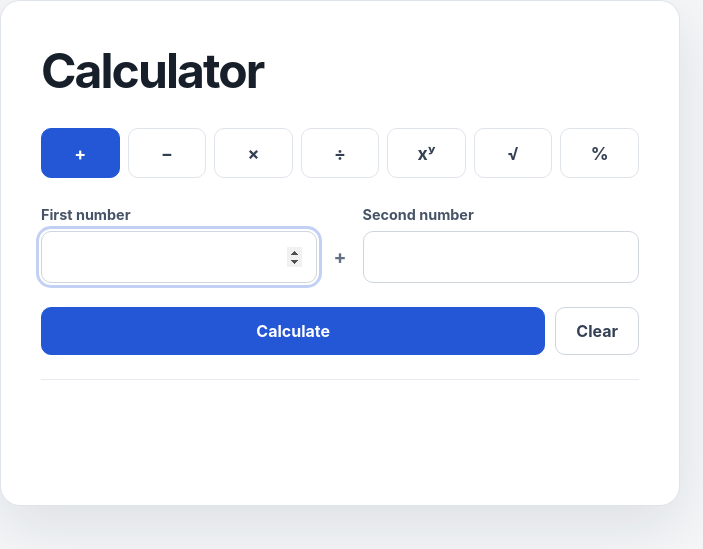
Test case: Calculator › calculates a binary operation
This screenshot has width=703, height=549.
Step 1. Click the button named "Multiply" → (253, 153), box top-left (214, 128), bottom-right (293, 178)
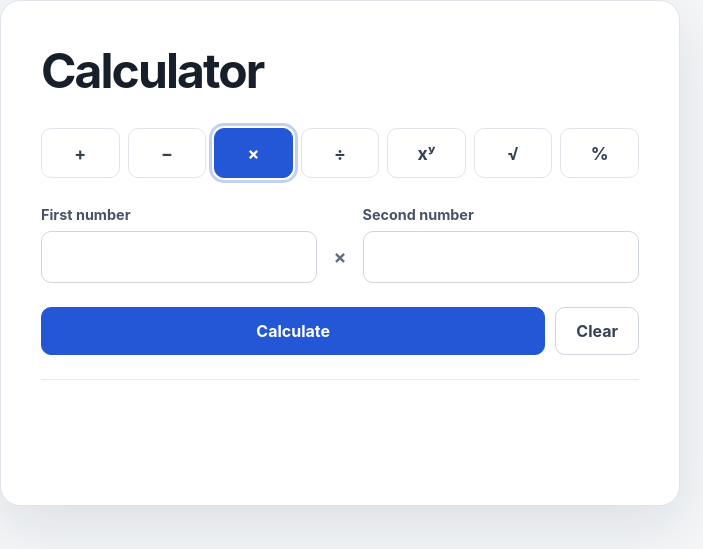
Step 2. Type "7" into the number field labelled "First number" → (179, 257), box top-left (41, 231), bottom-right (318, 283)
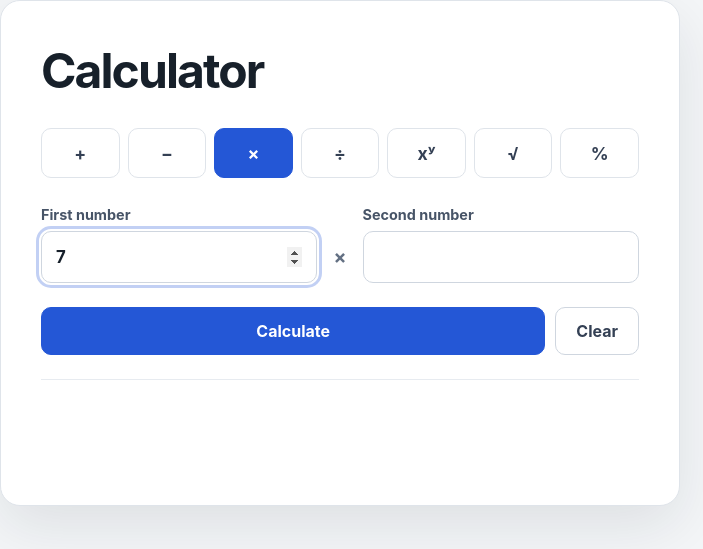
Step 3. Type "5" into the number field labelled "Second number" → (501, 257), box top-left (362, 231), bottom-right (639, 283)
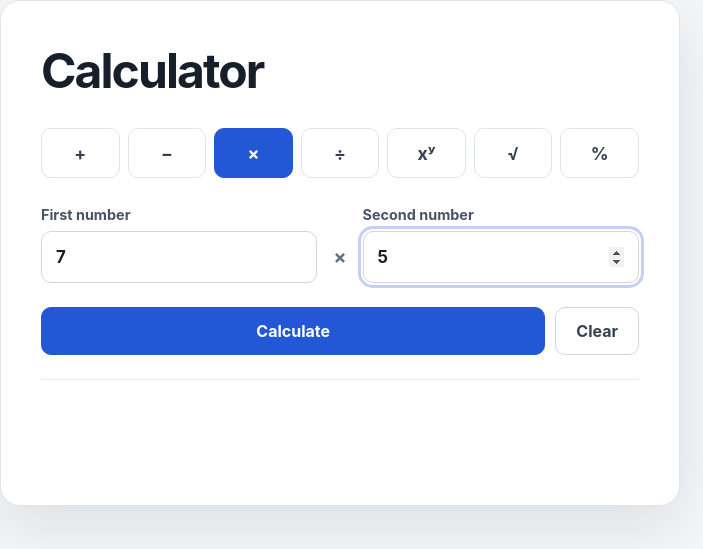
Step 4. Click the button "Calculate" → (293, 331), box top-left (41, 307), bottom-right (545, 355)
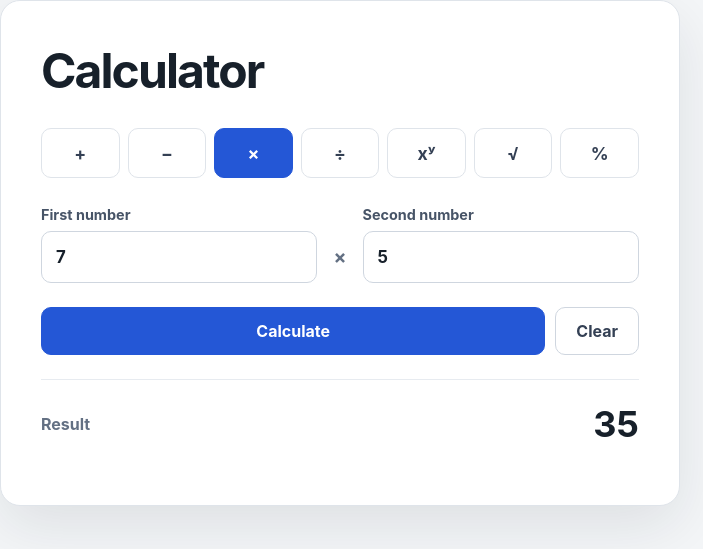
Check: the text "35" is shown, box top-left (593, 402), bottom-right (639, 446)
